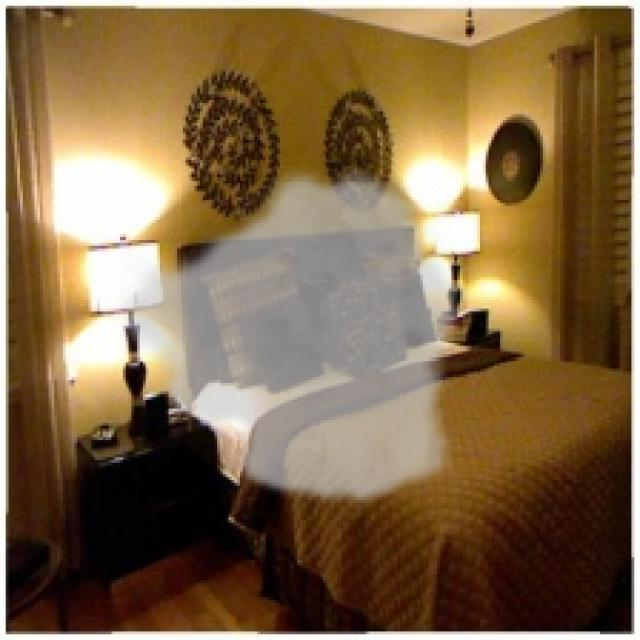smoke: (114, 160, 463, 509)
